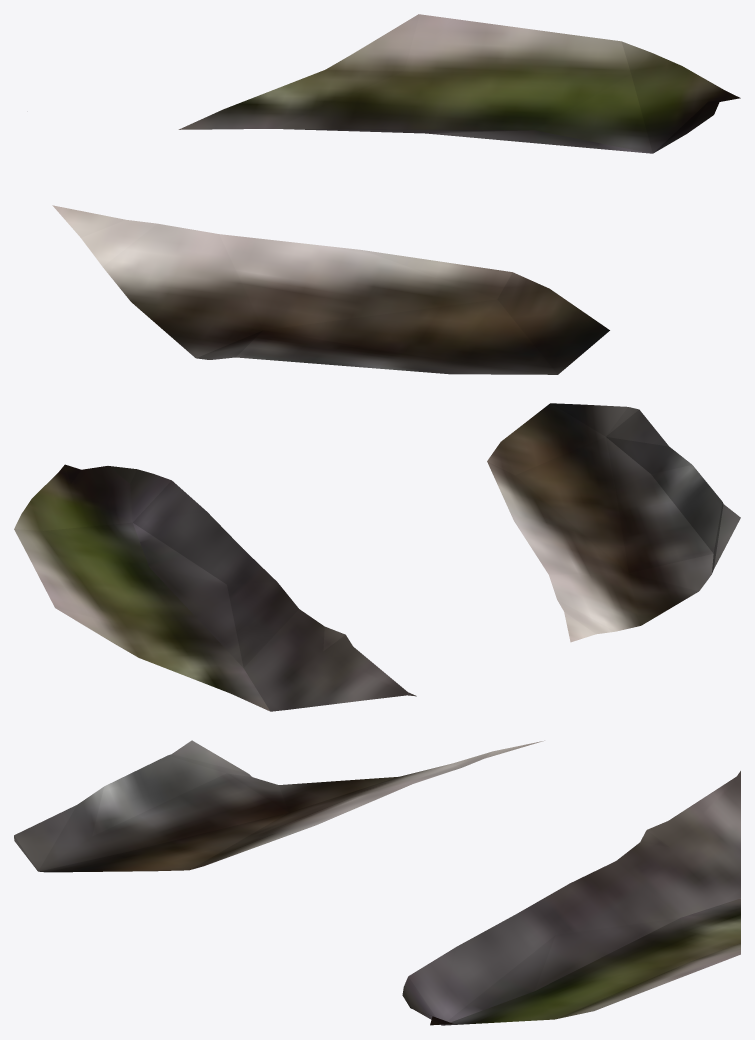
3 views of the same model, one above another, from view 1: azimuth 30°, elevation 25°; view 2: azimuth 150°, elevation 25°; view 3: azimuth 270°, elevation 25° (orthographic). The views are drawn at different scales.
Bounding box in the file's own units: 0.2748 × 0.0239 × 0.2962.
1 material, 1 textured.
